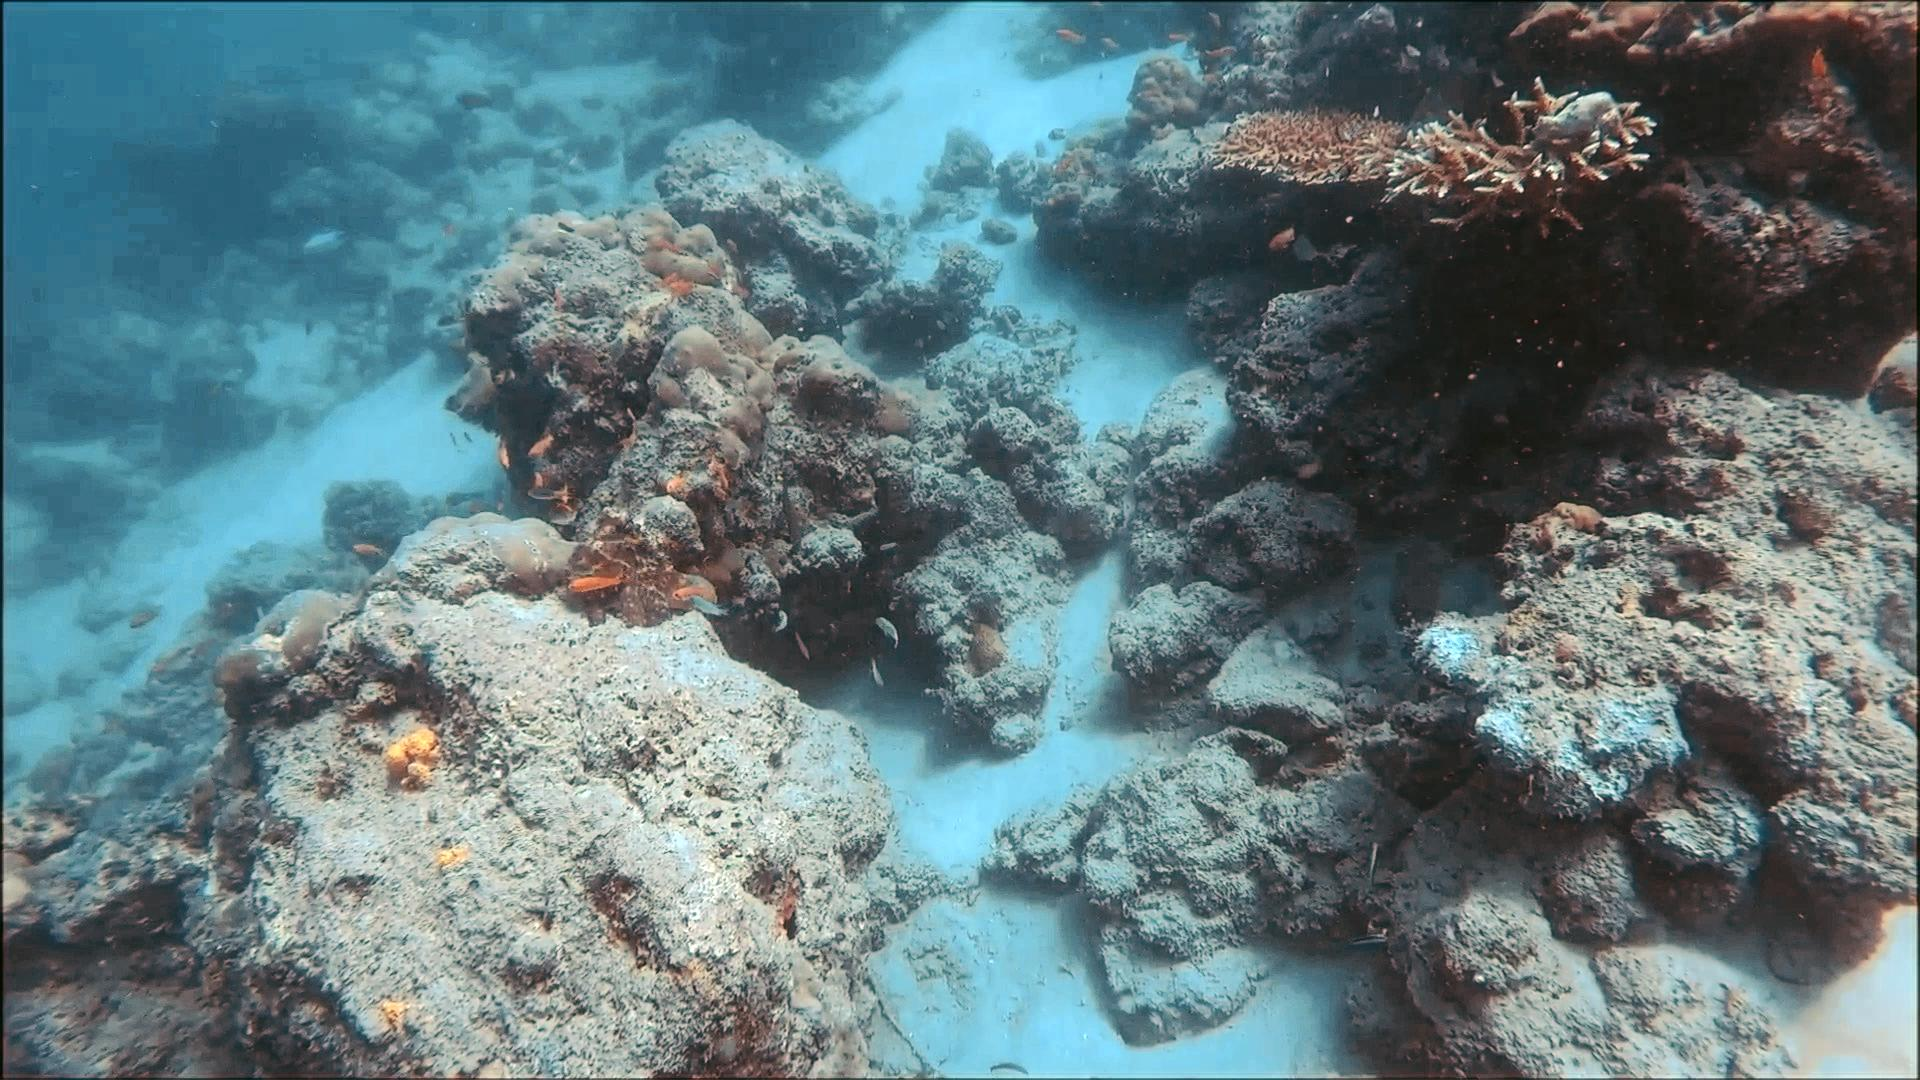Porites-Porites pukoensis: (605, 200, 812, 476)
